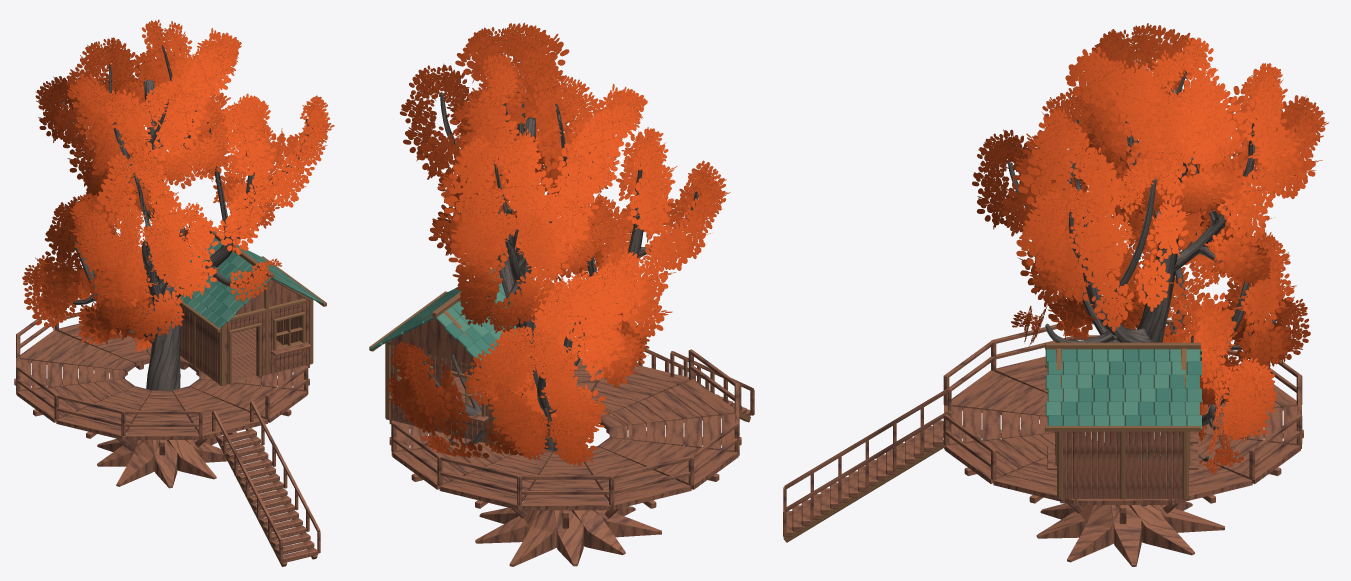
The model's file is forest.gltf.
The picture shows the model from 3 angles, left to right: view 1: azimuth 30°, elevation 25°; view 2: azimuth 150°, elevation 25°; view 3: azimuth 270°, elevation 25°; orthographic projection. The views are drawn at different scales.
Parts seen in each view (by area): view 1: GiantTree_18m__TwistedTree_3, GiantTree_18m__GiantTree_18m_005, GiantTree_18m__GiantTree_18m_007, Gable_4m__Gable_4m, GiantTree_18m__GiantTree_18m_006, Platform_Wedge30__Platform_Wedge30_0068, Platform_Wedge30__Platform_Wedge30_0069, Platform_Wedge30__Platform_Wedge30_00612, GiantTree_18m__GiantTree_18m_004, Stair_Rails__立方体_007, Stair_Rails__立方体_015, Platform_Wedge30__Platform_Wedge30_00610 (+5 smaller); view 2: GiantTree_18m__TwistedTree_3, Gable_4m__Gable_4m2, GiantTree_18m__GiantTree_18m_002, GiantTree_18m__GiantTree_18m_004, GiantTree_18m__GiantTree_18m_003, Platform_Wedge30__Platform_Wedge30_0065, GiantTree_18m__GiantTree_18m_001, Platform_Wedge30__Platform_Wedge30_0066, Platform_Wedge30__Platform_Wedge30_0064, GiantTree_18m__GiantTree_18m_005, Platform_Wedge30__Platform_Wedge30_0063, Platform_Wedge30__Platform_Wedge30_0067 (+11 smaller); view 3: GiantTree_18m__TwistedTree_3, GiantTree_18m__GiantTree_18m_008, GiantTree_18m__GiantTree_18m_001, GiantTree_18m__GiantTree_18m, Roof_Gabled_4x4__立方体_122, GiantTree_18m__GiantTree_18m_007, GiantTree_18m__GiantTree_18m_002, Roof_Gabled_4x4__立方体_121, Stair_Stringers__立方体_001, Platform_Wedge30__Platform_Wedge30_00611, Platform_Wedge30__Platform_Wedge30_0062, Stair_Rails__立方体_007 (+5 smaller).
Boxes of the visible parts, box(x1,y1,x2,y2) form: GiantTree_18m__TwistedTree_3: box(22, 19, 334, 390); GiantTree_18m__GiantTree_18m_005: box(116, 440, 159, 486); GiantTree_18m__GiantTree_18m_007: box(167, 440, 216, 479); Gable_4m__Gable_4m: box(235, 279, 303, 314); GiantTree_18m__GiantTree_18m_006: box(152, 440, 177, 488); Platform_Wedge30__Platform_Wedge30_0068: box(56, 415, 125, 439); Platform_Wedge30__Platform_Wedge30_0069: box(124, 430, 199, 439); Platform_Wedge30__Platform_Wedge30_00612: box(198, 415, 267, 439); GiantTree_18m__GiantTree_18m_004: box(97, 440, 145, 466); Stair_Rails__立方体_007: box(212, 410, 282, 541); Stair_Rails__立方体_015: box(250, 401, 320, 531); Platform_Wedge30__Platform_Wedge30_00610: box(260, 390, 307, 422); GiantTree_18m__TwistedTree_3: box(387, 22, 730, 510); Gable_4m__Gable_4m2: box(387, 318, 476, 365); GiantTree_18m__GiantTree_18m_002: box(509, 510, 562, 566); GiantTree_18m__GiantTree_18m_004: box(571, 510, 625, 555); GiantTree_18m__GiantTree_18m_003: box(553, 510, 583, 566); Platform_Wedge30__Platform_Wedge30_0065: box(520, 498, 610, 510); GiantTree_18m__GiantTree_18m_001: box(475, 510, 546, 543); Platform_Wedge30__Platform_Wedge30_0066: box(608, 481, 691, 509); Platform_Wedge30__Platform_Wedge30_0064: box(439, 481, 519, 509); GiantTree_18m__GiantTree_18m_005: box(592, 510, 661, 537); Platform_Wedge30__Platform_Wedge30_0063: box(392, 451, 450, 489); Platform_Wedge30__Platform_Wedge30_0067: box(680, 451, 738, 489); GiantTree_18m__TwistedTree_3: box(972, 23, 1328, 506); GiantTree_18m__GiantTree_18m_008: box(1067, 505, 1119, 562); GiantTree_18m__GiantTree_18m_001: box(1128, 505, 1194, 555); GiantTree_18m__GiantTree_18m: box(1110, 505, 1141, 566); Roof_Gabled_4x4__立方体_122: box(1045, 342, 1200, 349); GiantTree_18m__GiantTree_18m_007: box(1036, 505, 1103, 538); GiantTree_18m__GiantTree_18m_002: box(1150, 505, 1224, 532); Roof_Gabled_4x4__立方体_121: box(1045, 425, 1200, 431); Stair_Stringers__立方体_001: box(783, 439, 943, 542); Platform_Wedge30__Platform_Wedge30_00611: box(993, 475, 1074, 504); Platform_Wedge30__Platform_Wedge30_0062: box(1171, 475, 1252, 504); Stair_Rails__立方体_007: box(784, 387, 949, 488).
Bounding box in the file's own units: 13.01 × 18.2 × 17.73.
50 materials, 37 textured.
